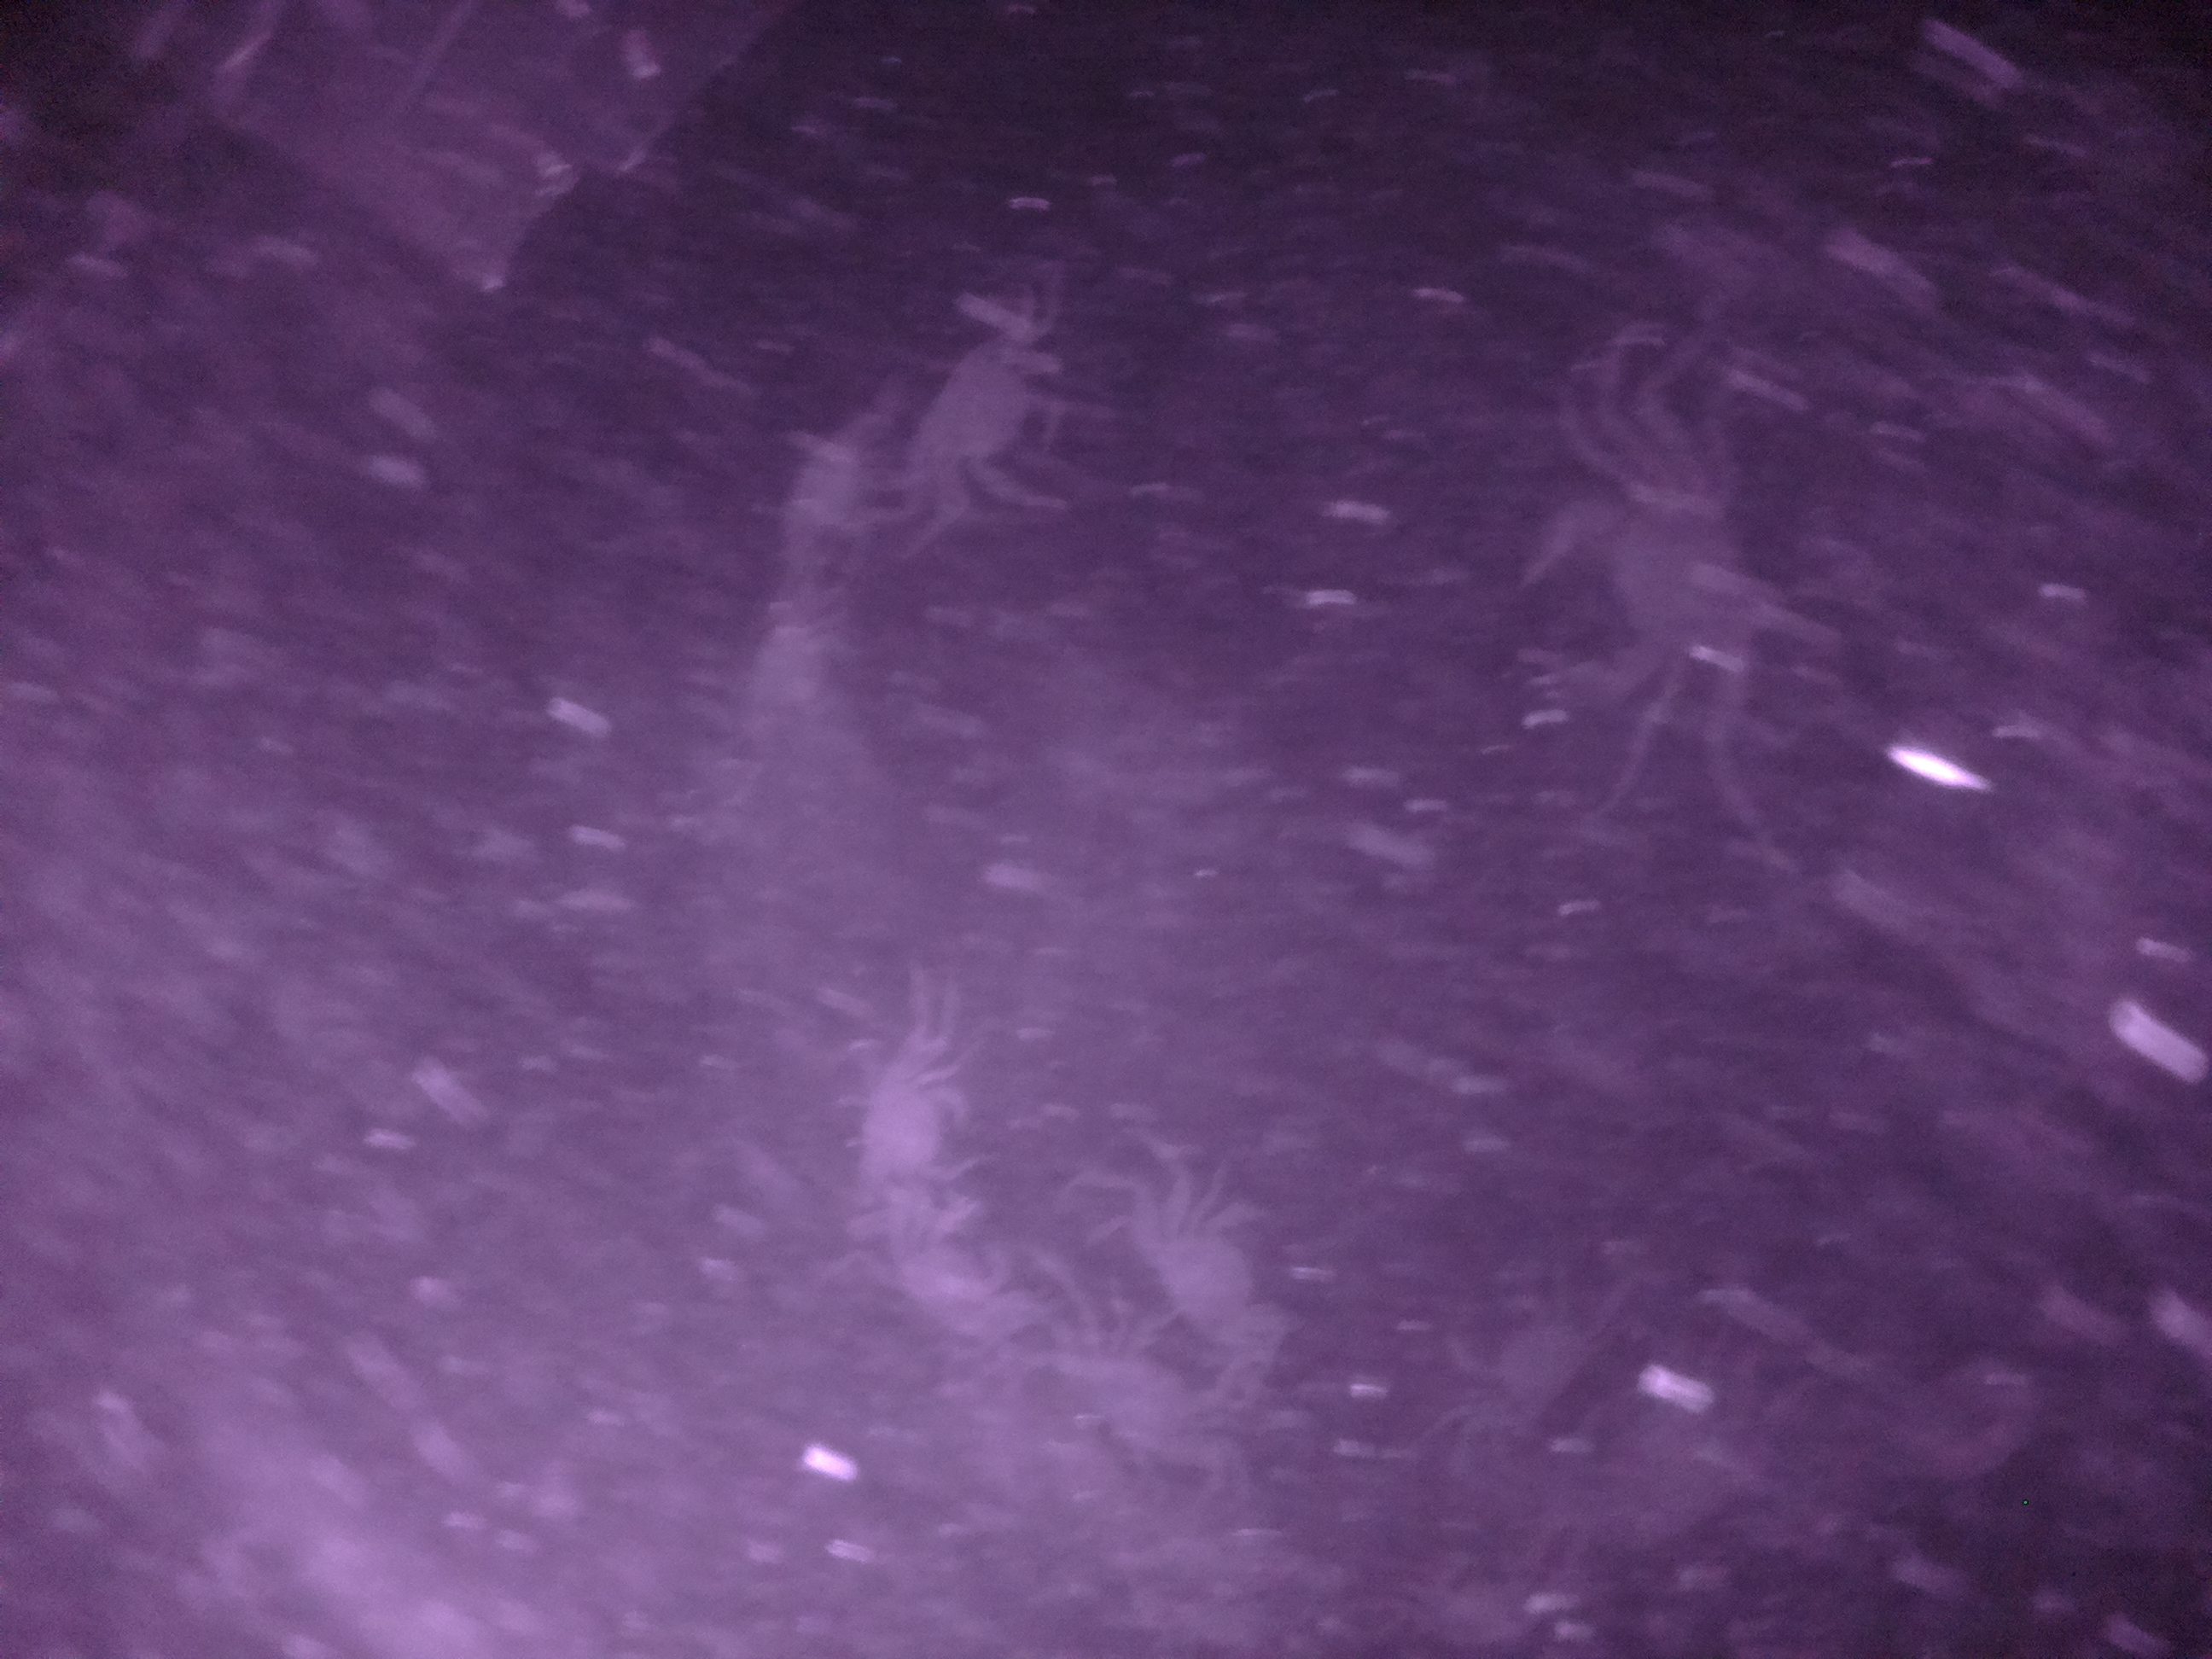Crab: (1099, 1115, 1310, 1399), (846, 1014, 998, 1225)
